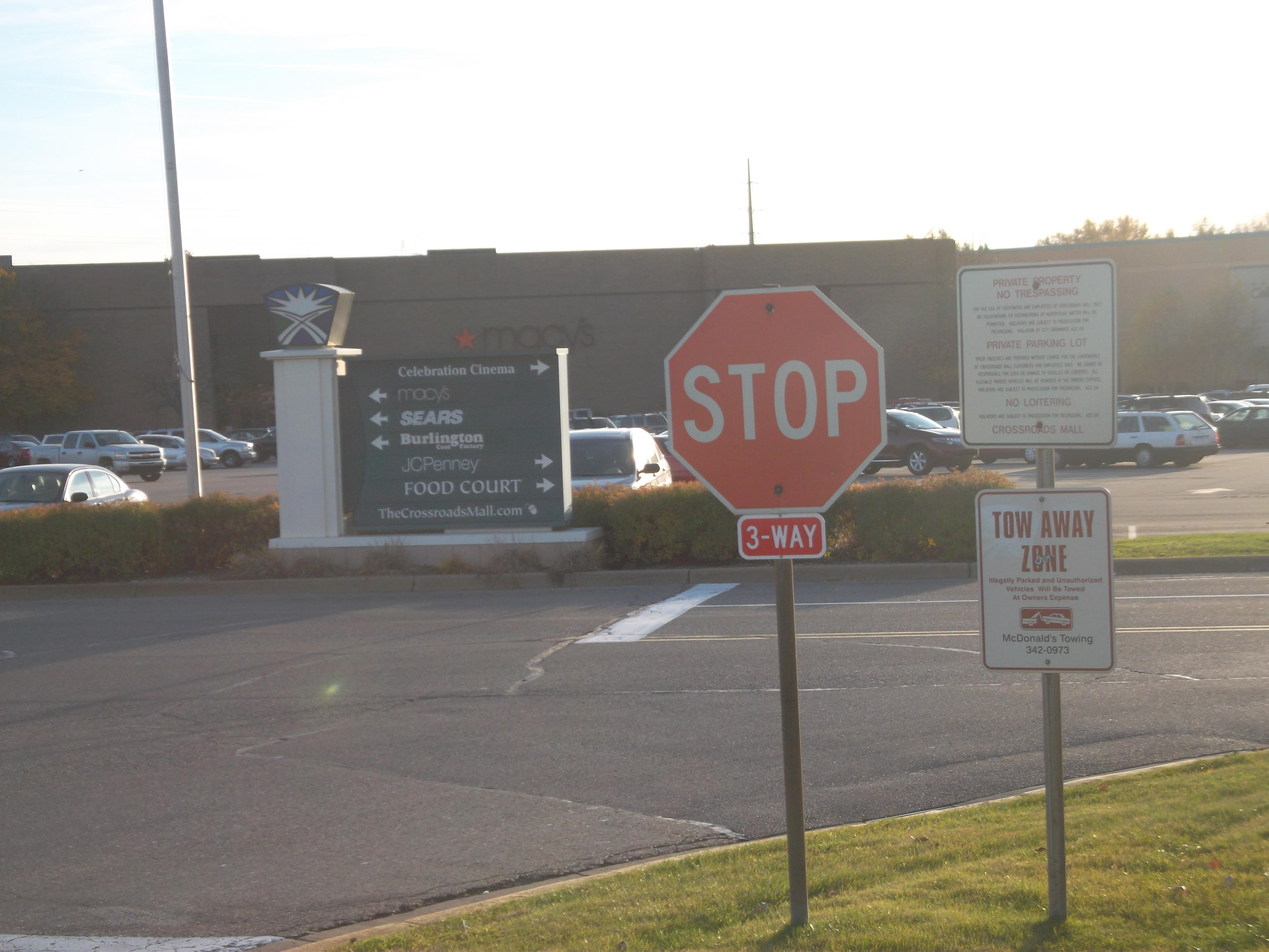Stop: (665, 291, 884, 509)
